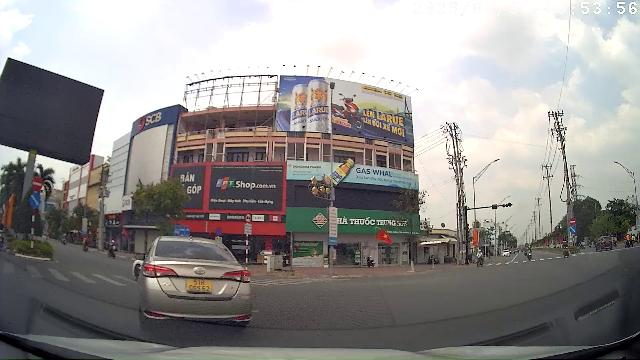102-cam-di-nguoc-chieu: (30, 176, 44, 191), (569, 217, 576, 226)
302a-huong-phai-di-vong-chuong-ngai-vat-1: (29, 192, 41, 208), (570, 226, 577, 234)
